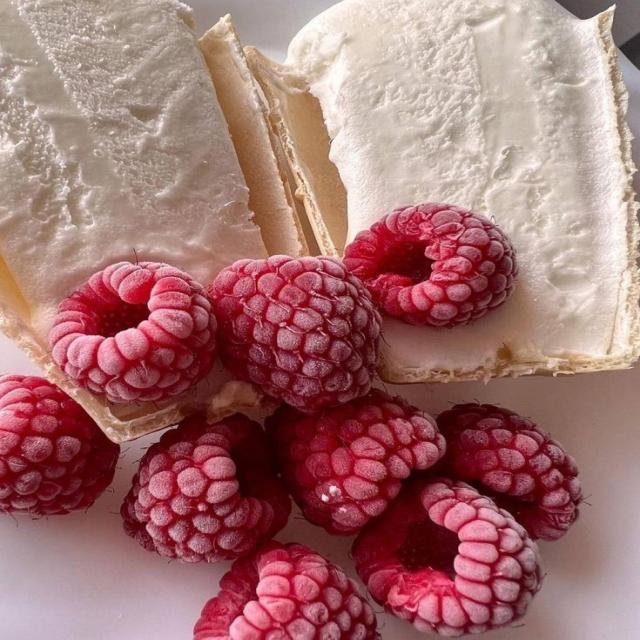raspberry: (354, 479, 541, 637), (209, 256, 380, 411), (267, 390, 445, 534), (122, 414, 290, 562), (49, 263, 216, 403), (344, 204, 517, 327), (438, 405, 581, 540), (195, 544, 378, 639), (0, 376, 119, 515)
